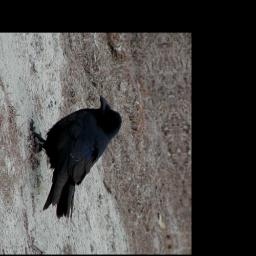Crow: (25, 94, 136, 222)
